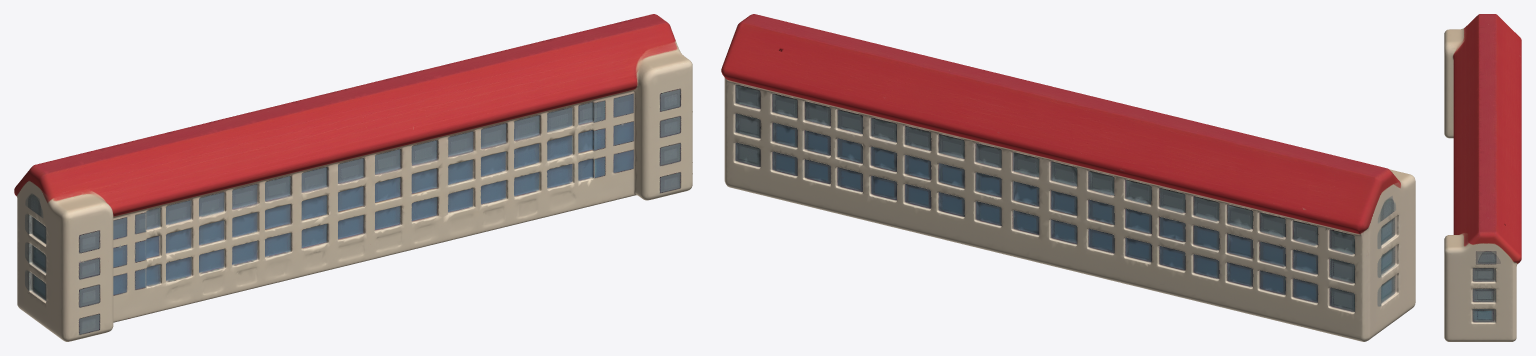
Rendered from jinri.glb.
3 views of the same model, side by side, from view 1: azimuth 30°, elevation 25°; view 2: azimuth 150°, elevation 25°; view 3: azimuth 270°, elevation 25° (orthographic). The views are drawn at different scales.
Visible parts, largest first — view 1: Mesh_0.015; view 2: Mesh_0.015; view 3: Mesh_0.015.
Part boxes in pixels (x1,y1,x2,y2): Mesh_0.015: [14, 14, 692, 341]; Mesh_0.015: [721, 14, 1415, 341]; Mesh_0.015: [1444, 14, 1521, 341].
Bounding box in the file's own units: 70.27 × 16.25 × 10.38.
Materials: 1 (1 with a texture image).
